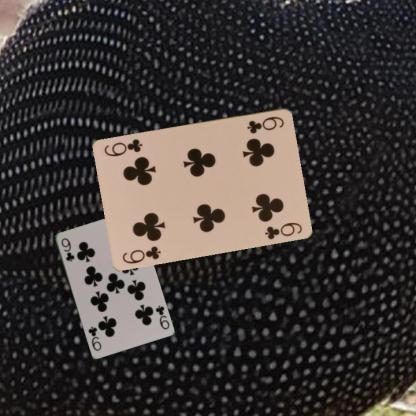6c: (244, 113, 286, 135), (121, 242, 162, 264)
9c: (58, 235, 76, 263), (152, 303, 170, 330)
